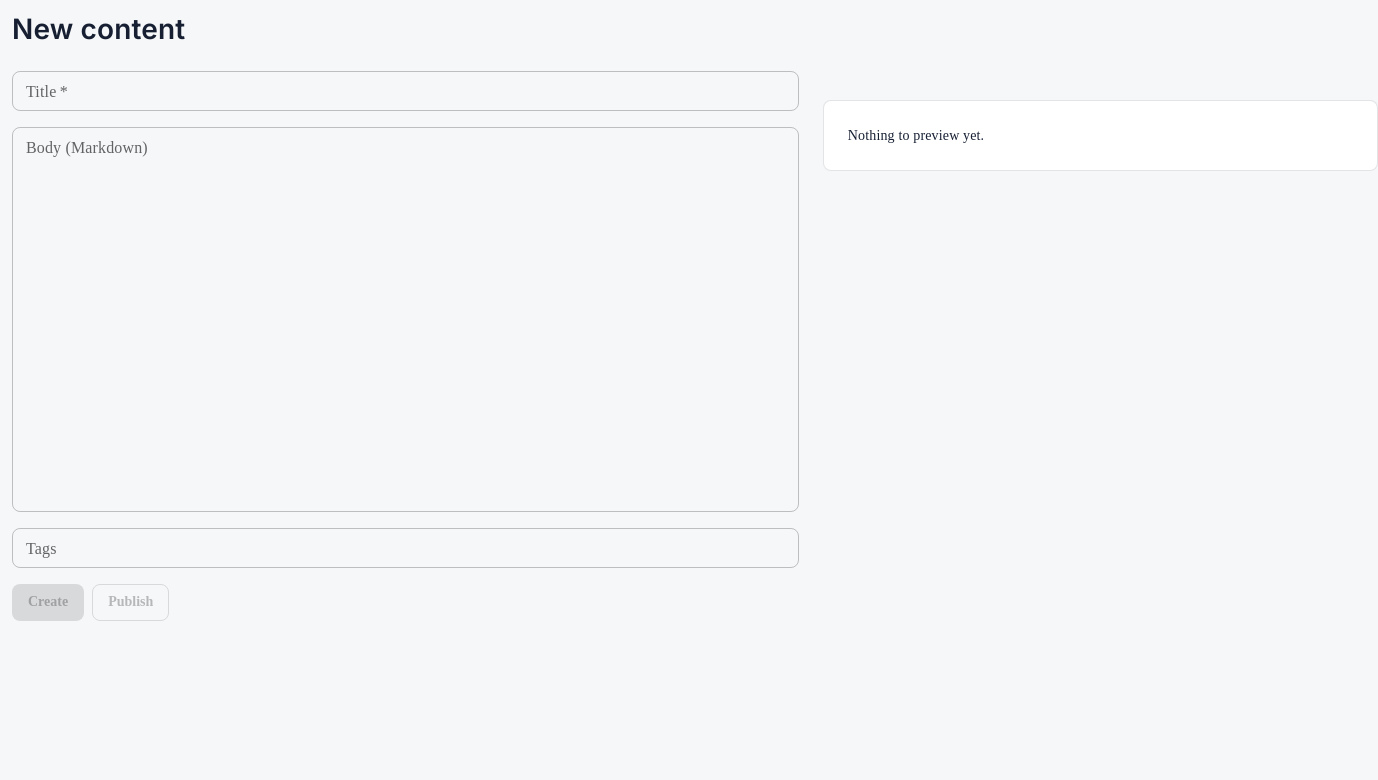
Scenario: ContentEditorScreen › new mode: the h1 is "New content" and Publish is disabled with a "Save first" tooltip
Expected: the heading "New content" is shown, [12,12,185,47]
Hover over the element showing "Publish" at (131, 602), box [92,584,169,620]
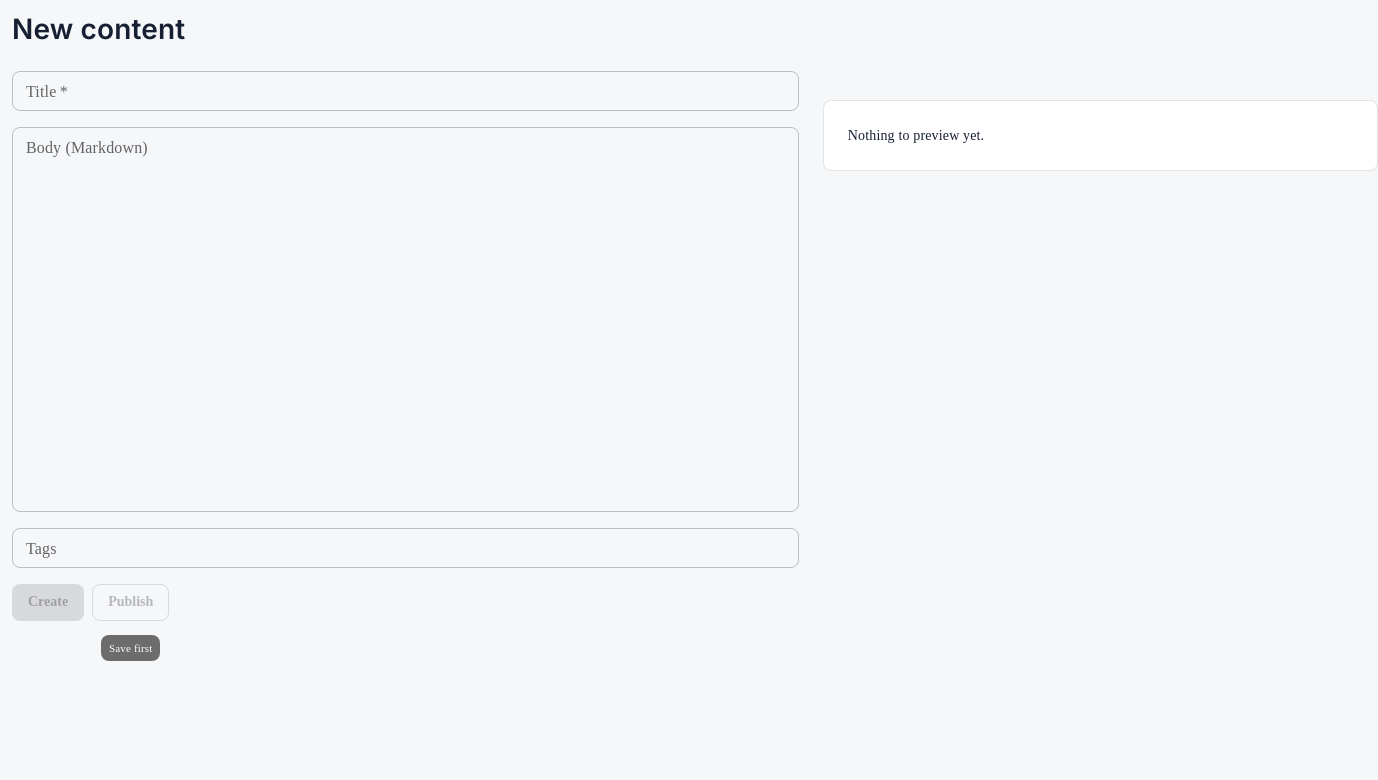
Expected: the tooltip reads "Save first", [109,642,152,654]
